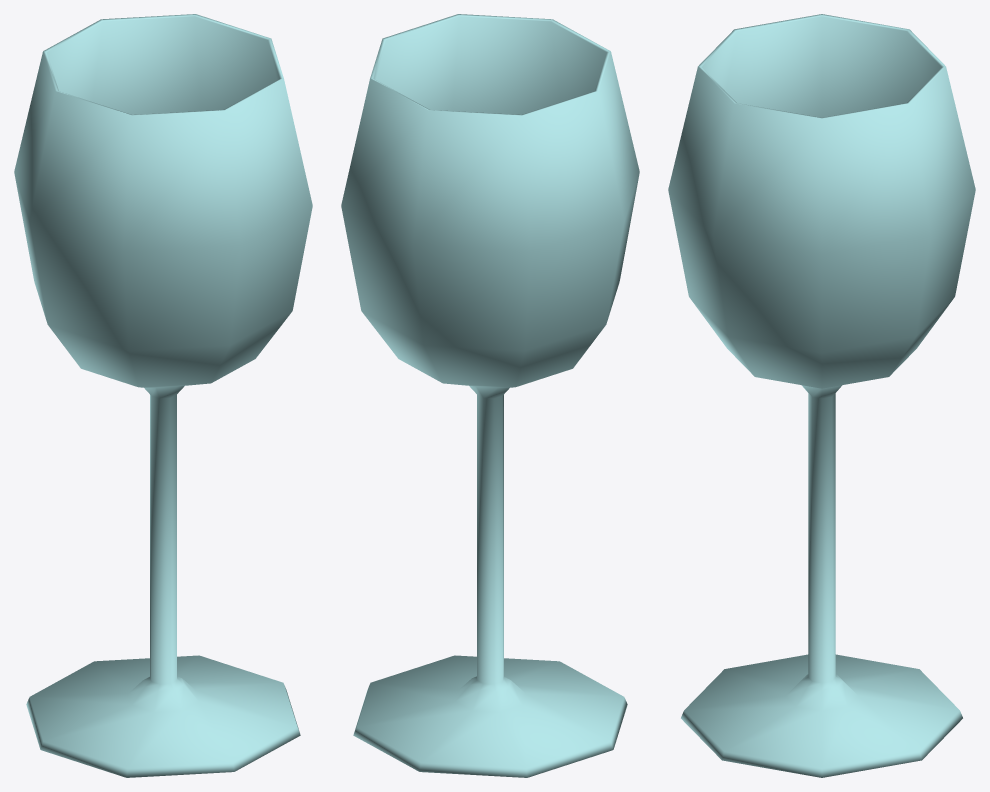
Rendered from WineGlass.fbx.
The picture shows the model from 3 angles, left to right: view 1: azimuth 30°, elevation 25°; view 2: azimuth 150°, elevation 25°; view 3: azimuth 270°, elevation 25°; orthographic projection.
Visible parts, largest first — view 1: Cylinder.162; view 2: Cylinder.162; view 3: Cylinder.162.
Part boxes in pixels (x1,y1,x2,y2): Cylinder.162: [14, 14, 312, 777]; Cylinder.162: [341, 14, 639, 777]; Cylinder.162: [668, 14, 975, 777].
Bounding box in the file's own units: 41.71 × 97.51 × 41.71.
